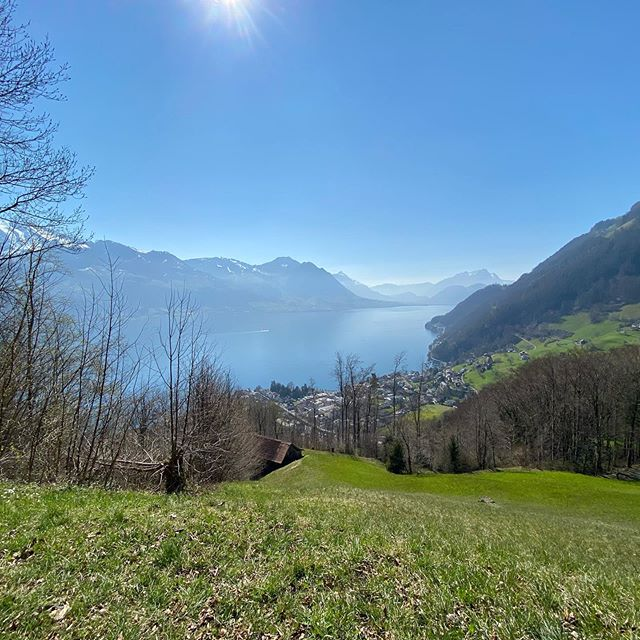grass: (22, 474, 640, 640)
mountain: (47, 219, 386, 279), (437, 261, 512, 300)
sky: (15, 1, 640, 240)
sun: (186, 1, 262, 32)
vegetation: (1, 321, 629, 487)
